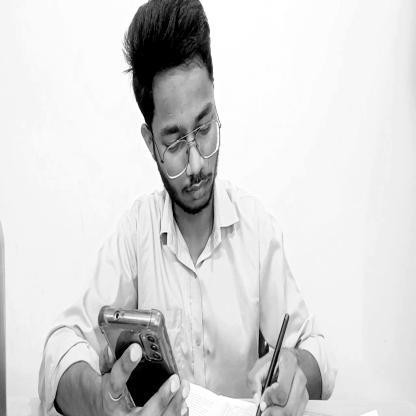Distracted: (125, 0, 223, 224)
